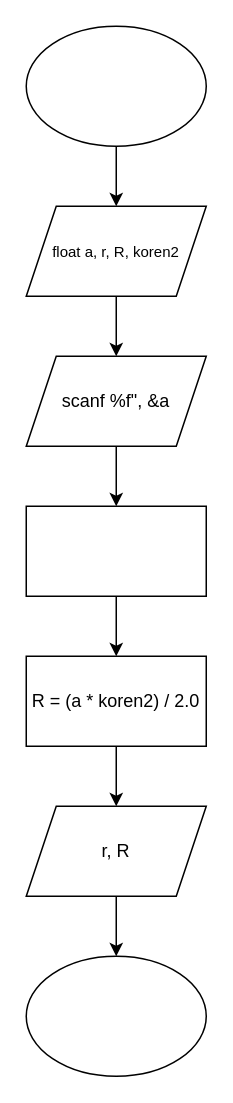
Image size: 233x1103. Some labels were removed from this diagram. Each missing label, with the centre of its shape:
r = a / 2.0: the point at 115,550
Начало: the point at 115,85
